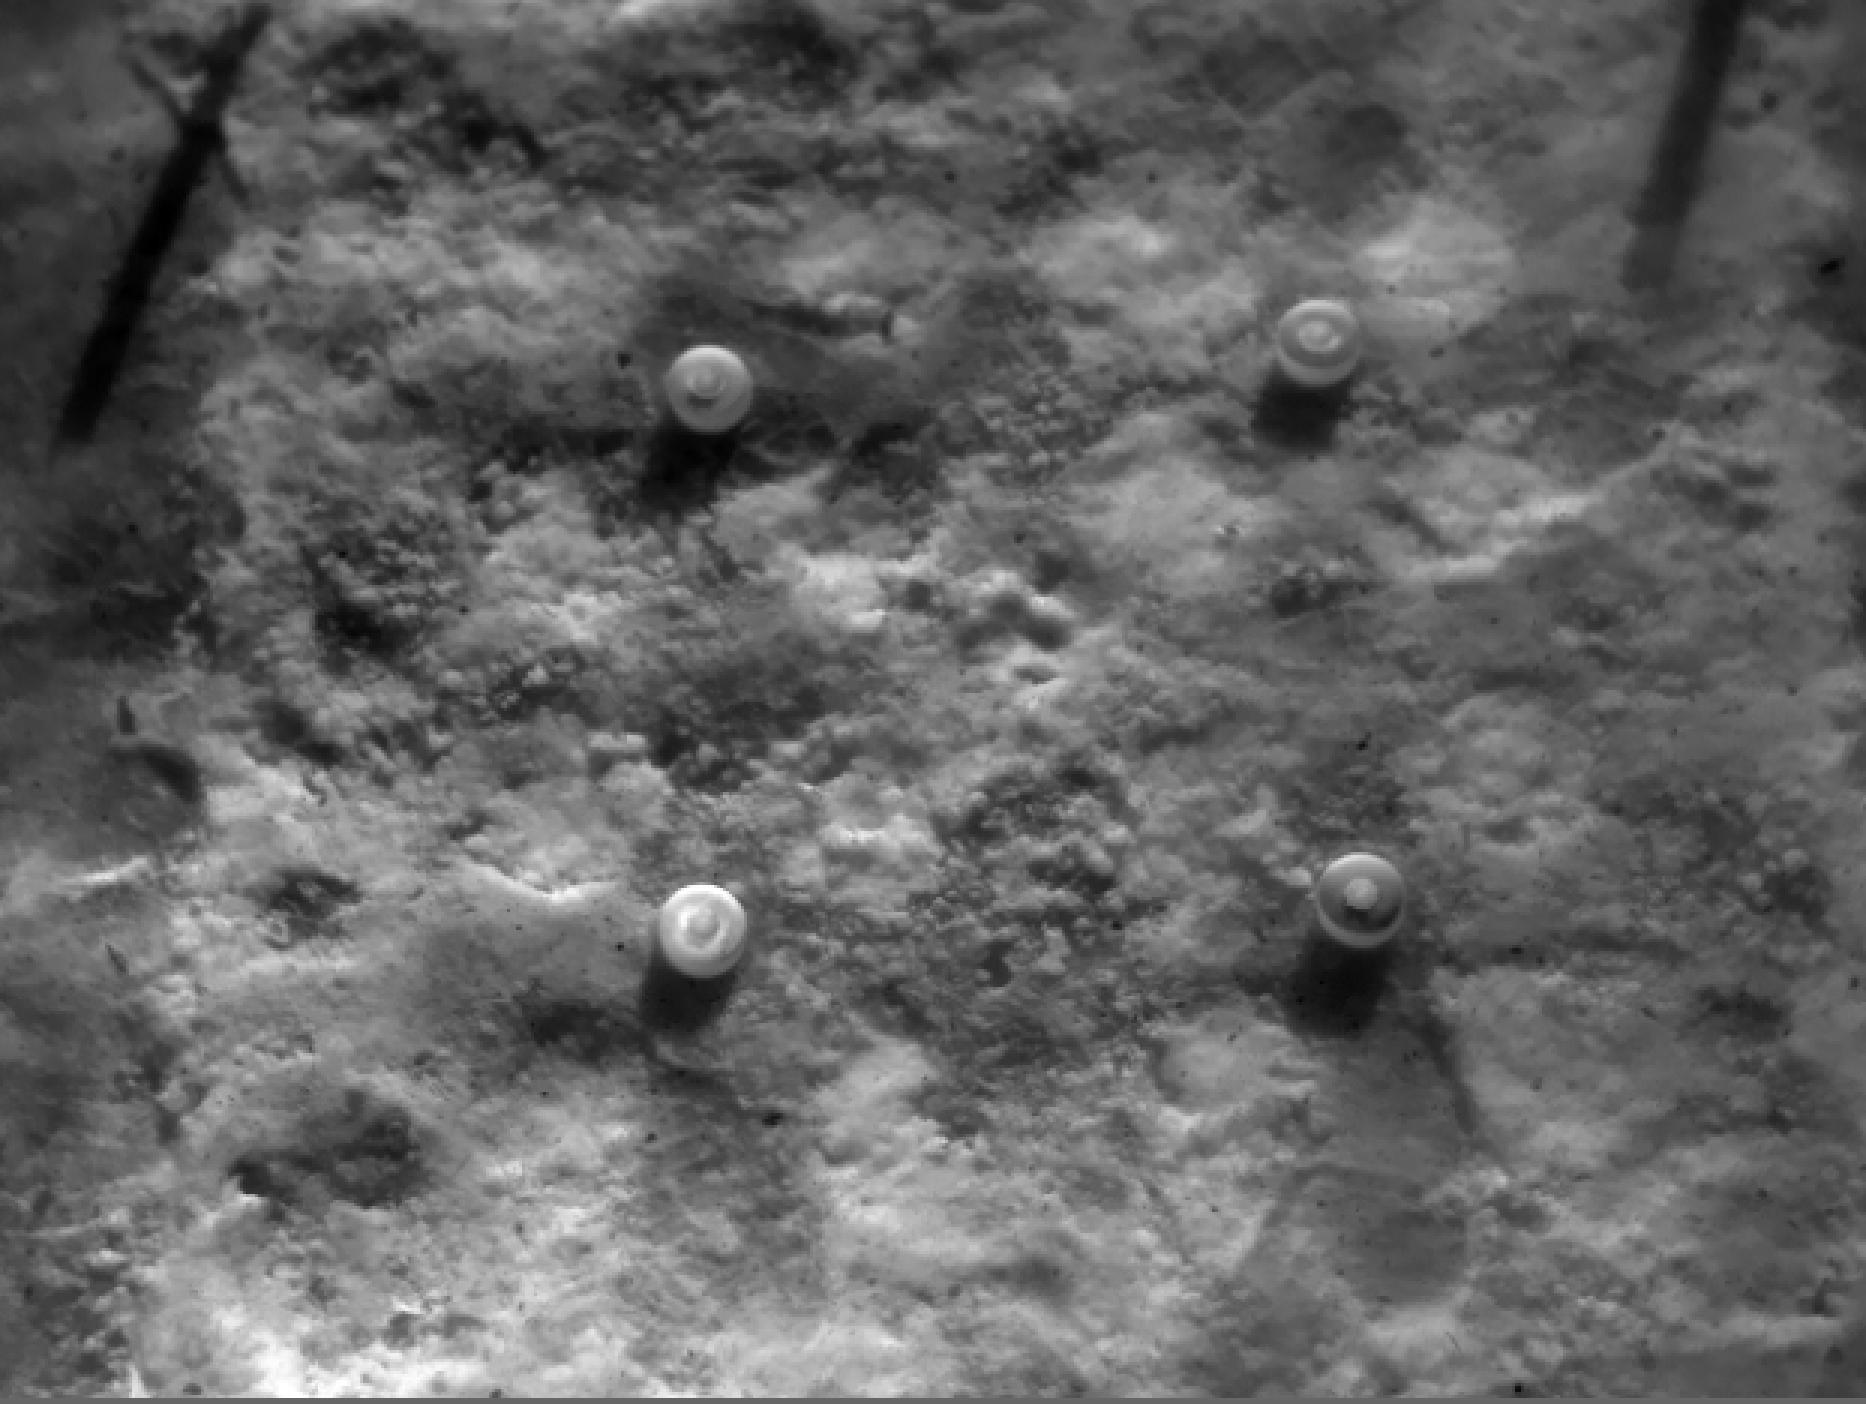mines-gjV8: (662, 875, 763, 994), (1314, 861, 1416, 948), (1282, 305, 1364, 403), (676, 345, 749, 435)
